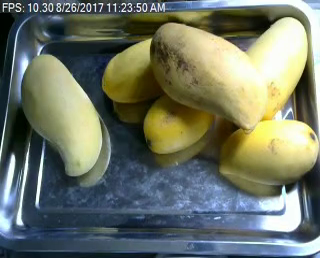Mango: (149, 22, 268, 131), (20, 55, 102, 176), (237, 14, 308, 120), (219, 120, 319, 184), (101, 36, 171, 102), (143, 94, 216, 155)
